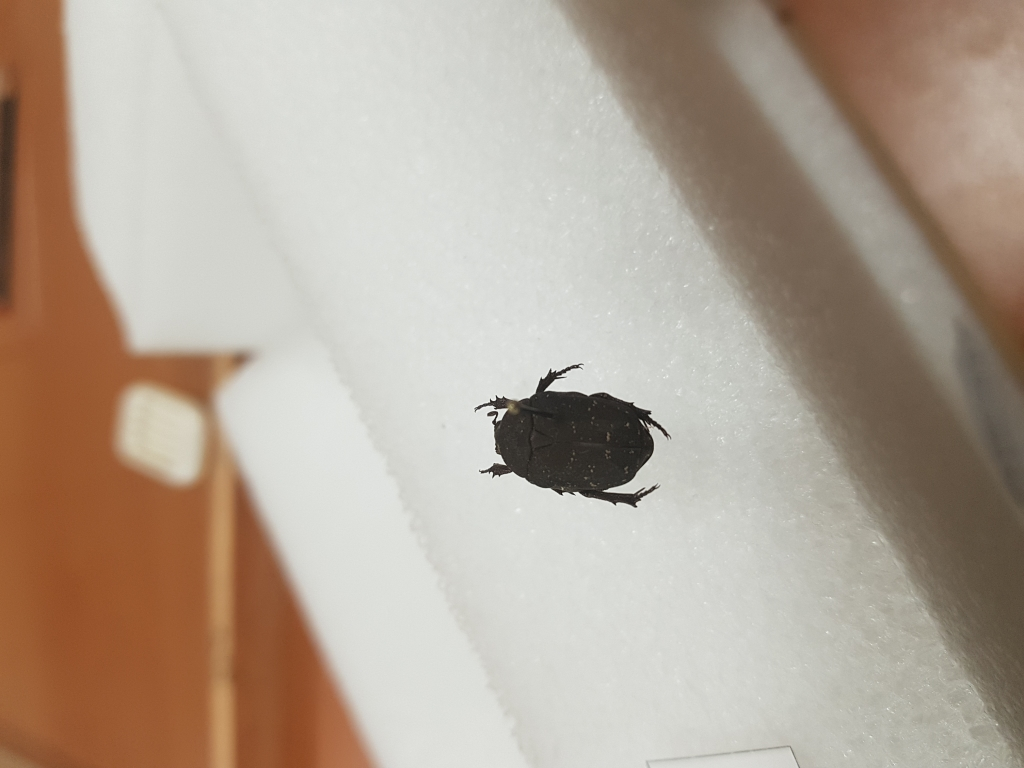Protaetia_morio_morio: (470, 353, 678, 518)
